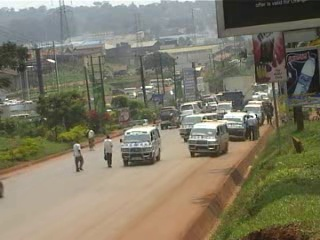Car: (156, 107, 180, 130)
